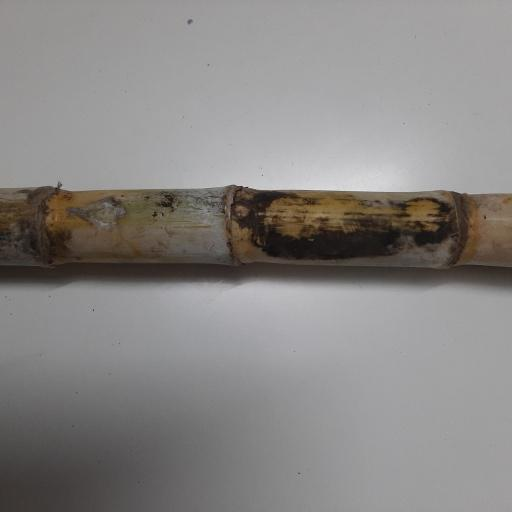Bud: (231, 203, 251, 220)
